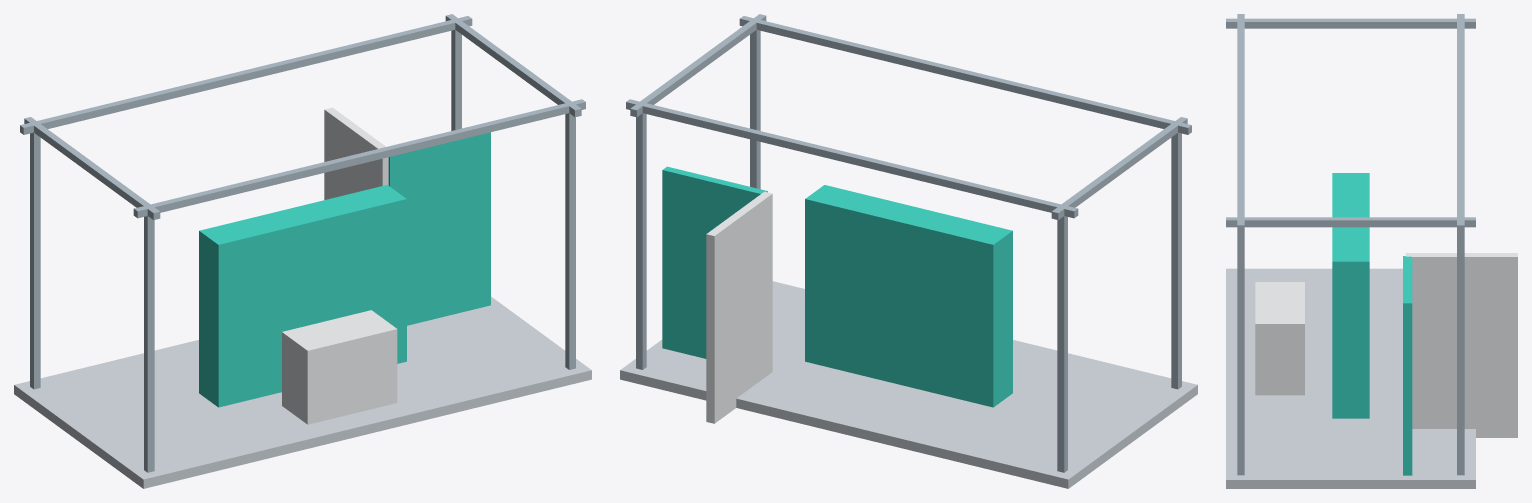
3 renders of one model, left to right at view 1: azimuth 30°, elevation 25°; view 2: azimuth 150°, elevation 25°; view 3: azimuth 270°, elevation 25°, orthographic. The views are drawn at different scales.
Parts seen in each view (by area): view 1: Exhibition Booth Concept; view 2: Exhibition Booth Concept; view 3: Exhibition Booth Concept.
Part boxes in pixels (x1,y1,x2,y2): Exhibition Booth Concept: (14, 14, 591, 488); Exhibition Booth Concept: (620, 14, 1197, 488); Exhibition Booth Concept: (1226, 14, 1517, 488).
Size of the model in its own units: 6 by 3.49 by 3.51.
